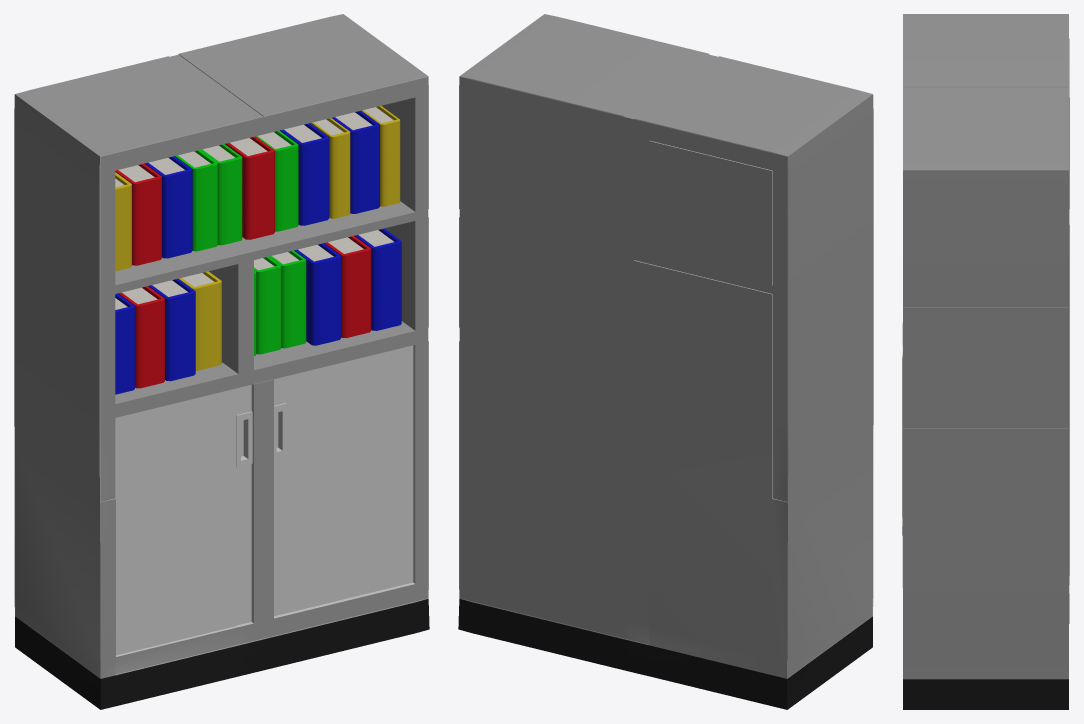
File: tana4.fbx
3 views of the same model, side by side, from view 1: azimuth 30°, elevation 25°; view 2: azimuth 150°, elevation 25°; view 3: azimuth 270°, elevation 25° (orthographic). The views are drawn at different scales.
Visible parts, largest first — view 1: obj1; view 2: obj1; view 3: obj1.
Boxes of the visible parts, bbox=[...] form: obj1: bbox=[14, 14, 429, 709]; obj1: bbox=[458, 14, 873, 709]; obj1: bbox=[902, 14, 1069, 709].
Size of the model in its own units: 201 by 323 by 91.09.
